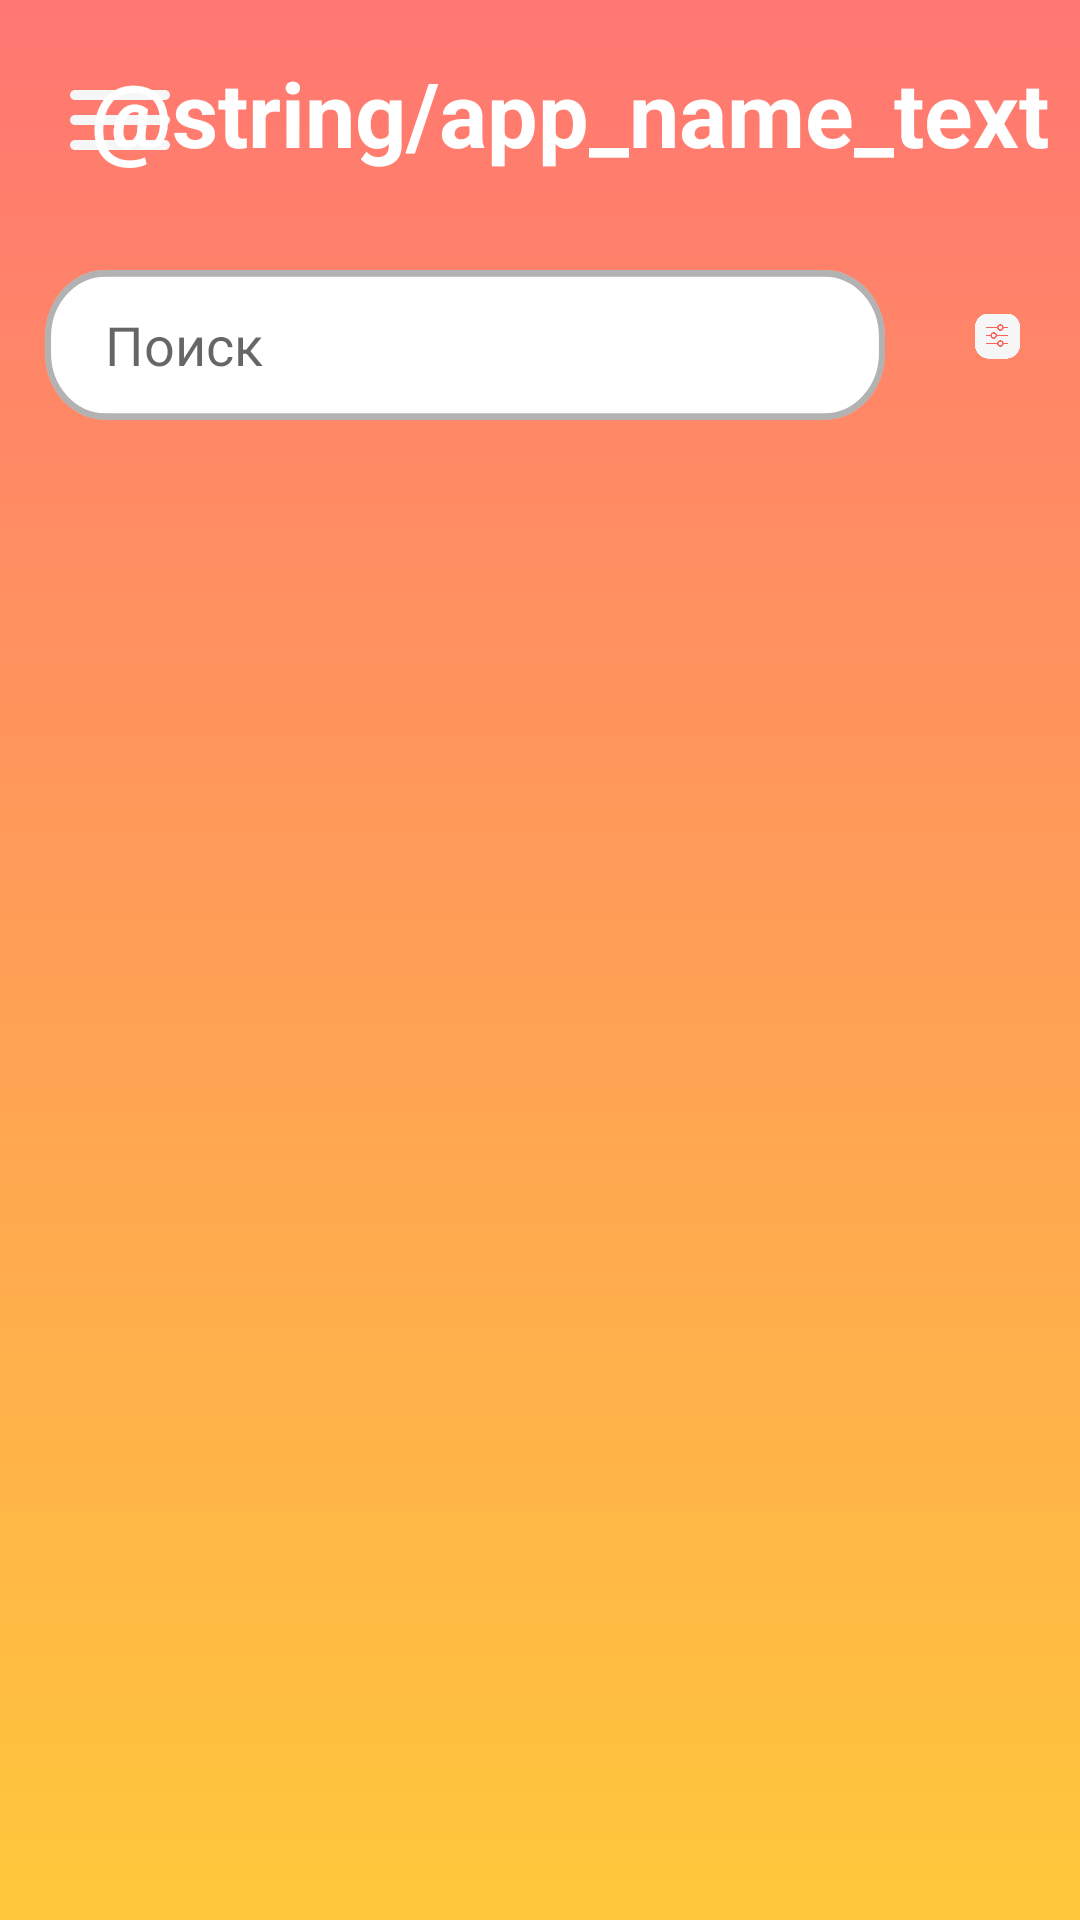

Icon bounding boxes for this 1080px×1920px phone screenshot, format (left=x1, top=y1, right=x2, bottom=y2):
filter bar: (left=975, top=314, right=1020, bottom=359)
